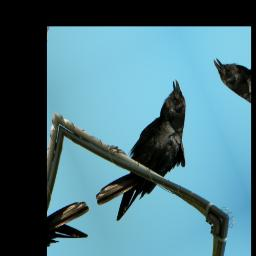Crow: (68, 77, 216, 228)
